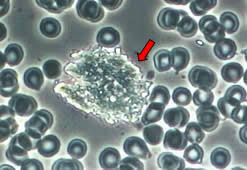Malaria: (76, 1, 105, 24), (123, 137, 151, 160), (200, 15, 224, 41), (23, 65, 45, 92), (189, 66, 217, 87), (8, 96, 37, 115), (39, 16, 65, 37), (96, 27, 123, 46), (2, 42, 24, 65), (209, 147, 231, 169), (213, 39, 235, 61), (66, 138, 89, 159), (36, 136, 60, 156), (157, 152, 183, 170), (34, 1, 75, 12), (172, 47, 189, 73), (1, 70, 18, 96), (157, 8, 178, 29), (98, 147, 120, 167), (186, 122, 205, 145), (165, 129, 186, 149), (142, 126, 164, 145), (225, 85, 247, 104), (42, 60, 62, 80), (218, 98, 239, 117), (143, 105, 162, 125), (219, 12, 239, 31), (154, 50, 171, 72), (184, 145, 203, 164), (150, 86, 169, 104), (178, 16, 196, 35), (173, 87, 191, 105), (194, 89, 212, 106), (100, 1, 124, 12), (232, 105, 247, 122), (1, 21, 8, 41)
